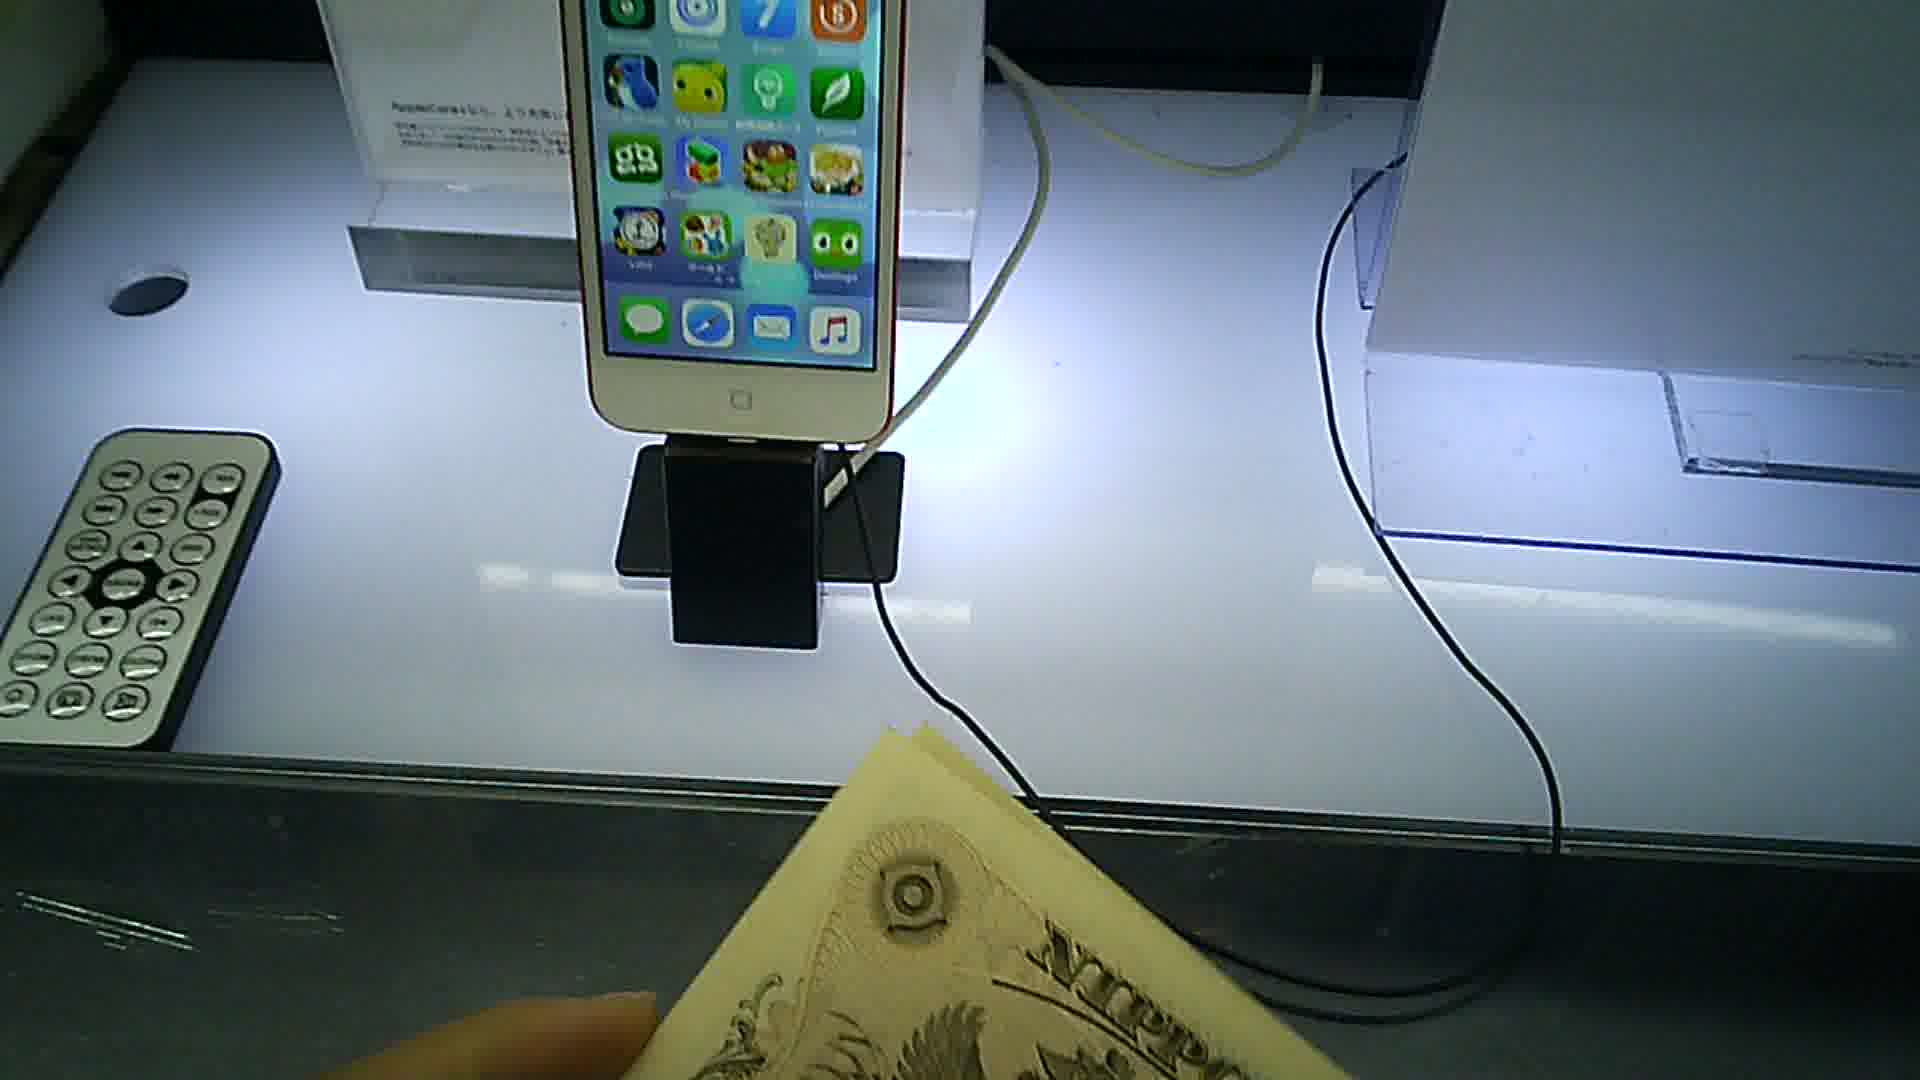10,000 Yen: (611, 741, 1320, 1079)
